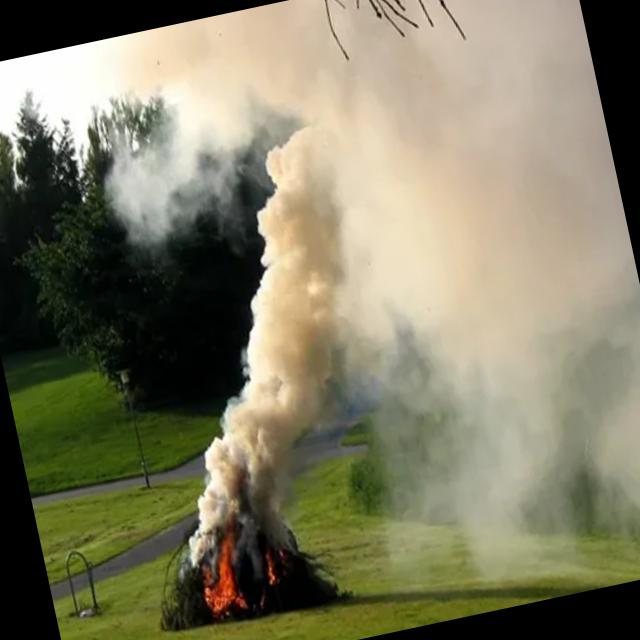Smoke: (111, 0, 640, 551)
